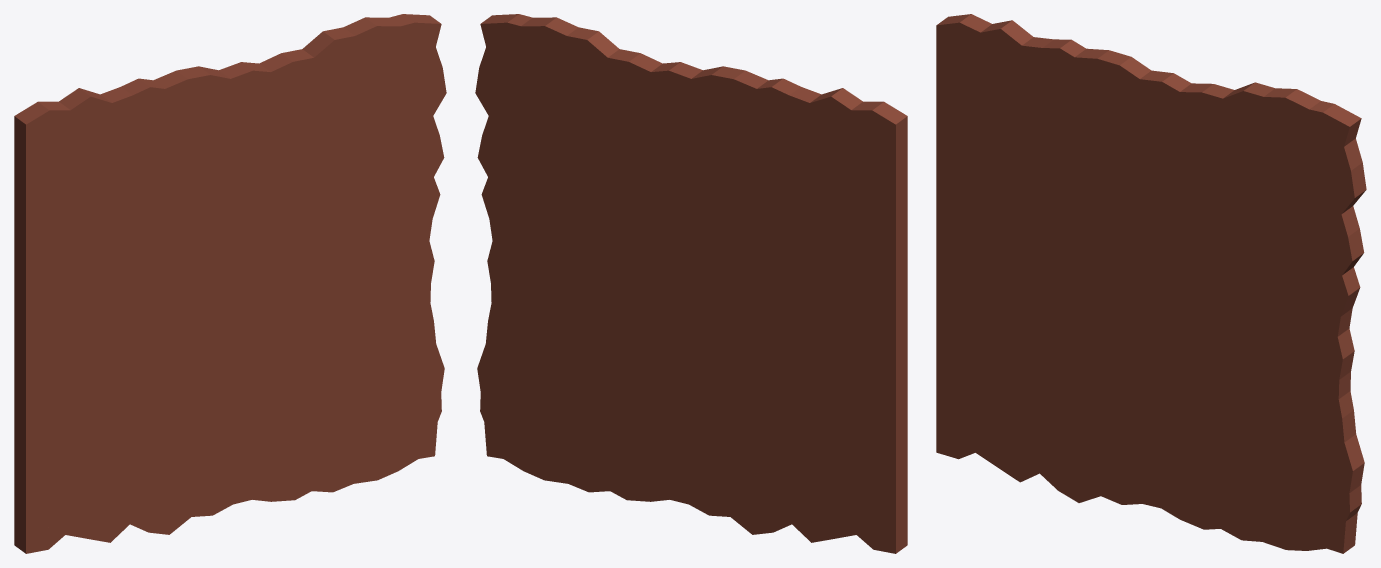
File: Tile14.glb
3 renders of one model, left to right at view 1: azimuth 30°, elevation 25°; view 2: azimuth 150°, elevation 25°; view 3: azimuth 330°, elevation 25°, orthographic.
Visible parts, largest first — view 1: 14; view 2: 14; view 3: 14.
Boxes of the visible parts, x1,y1,x2,y2 form: 14: [14, 14, 446, 553]; 14: [475, 14, 907, 553]; 14: [936, 14, 1366, 553].
Bounding box in the file's own units: 2.05 × 2.13 × 0.1.
Materials: 1 (1 with a texture image).
